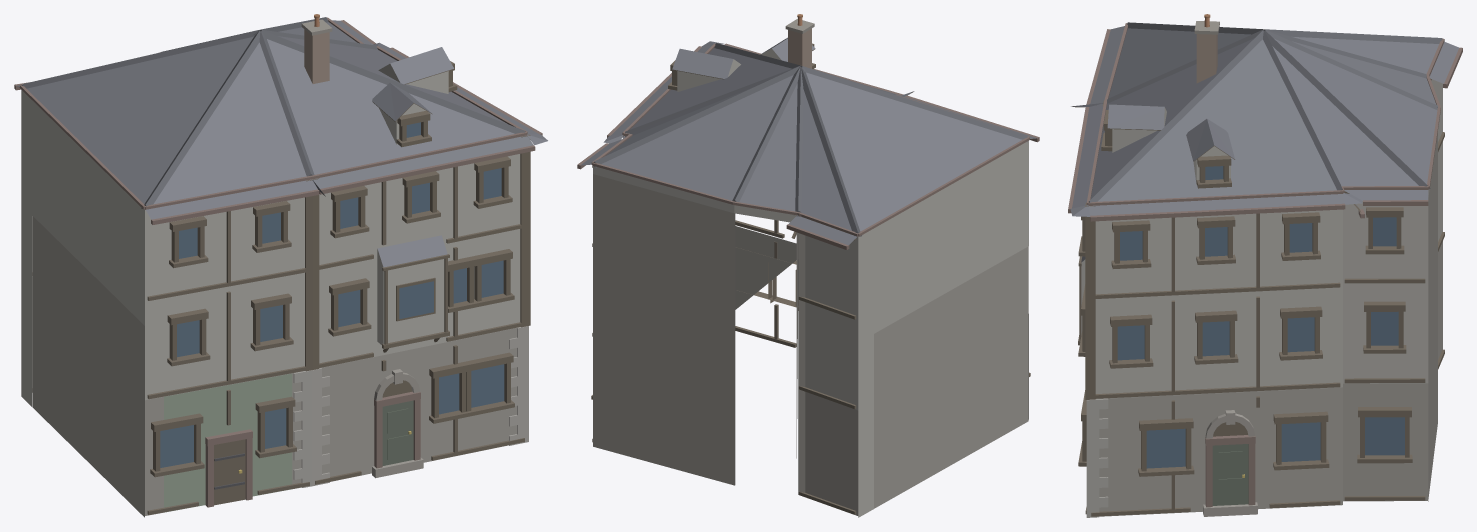
File: b043_closed.glb
3 views of the same model, side by side, from view 1: azimuth 30°, elevation 25°; view 2: azimuth 150°, elevation 25°; view 3: azimuth 270°, elevation 25° (orthographic). The views are drawn at different scales.
Visible parts, largest first — view 1: B043_visible; view 2: B043_visible; view 3: B043_visible.
Part boxes in pixels (left/top/right/bottom): B043_visible: left=14, top=14, right=547, bottom=517; B043_visible: left=577, top=14, right=1039, bottom=517; B043_visible: left=1068, top=14, right=1462, bottom=517.
Bounding box in the file's own units: 14.81 × 15.66 × 13.07.
